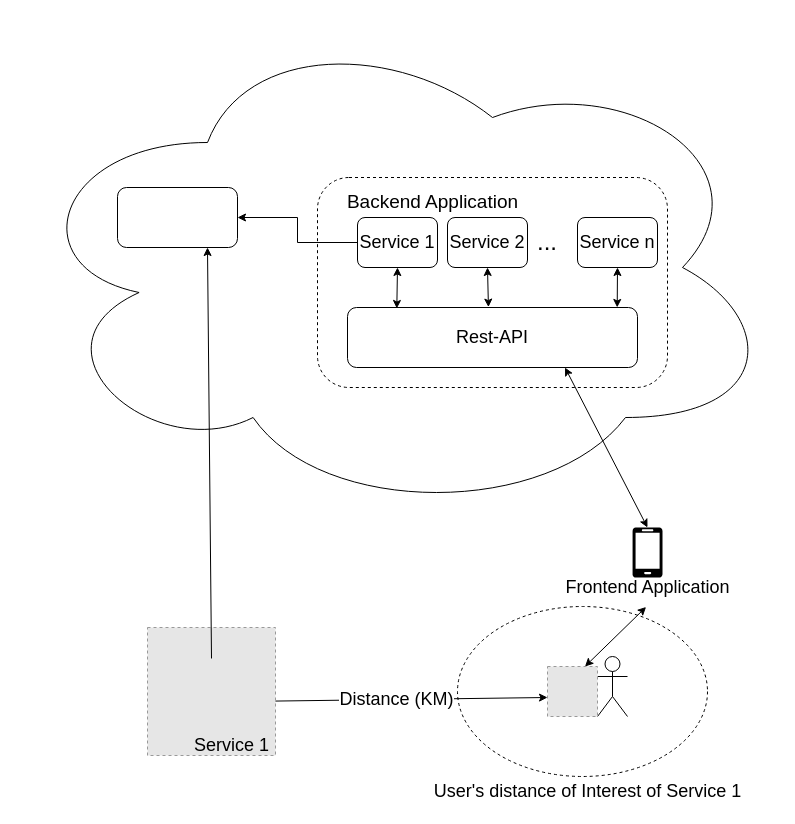
This 795x824 diagram has some shape labels left out. Grey dashed boxes stand in for pictures. The shapes that lost their labels are listed below. From the top down, each one's centre as x and y in pixels, then its label:
At point (177, 217): "Third-Party API".
At point (612, 686): "User".
